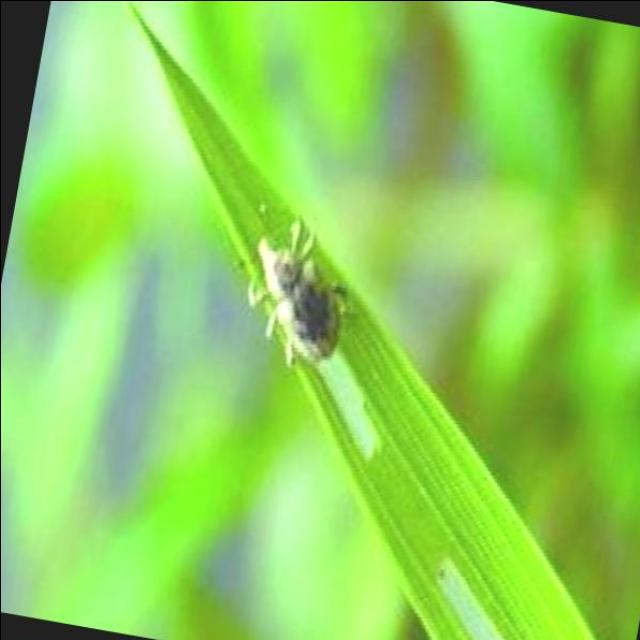ricebug: (258, 218, 345, 361)
